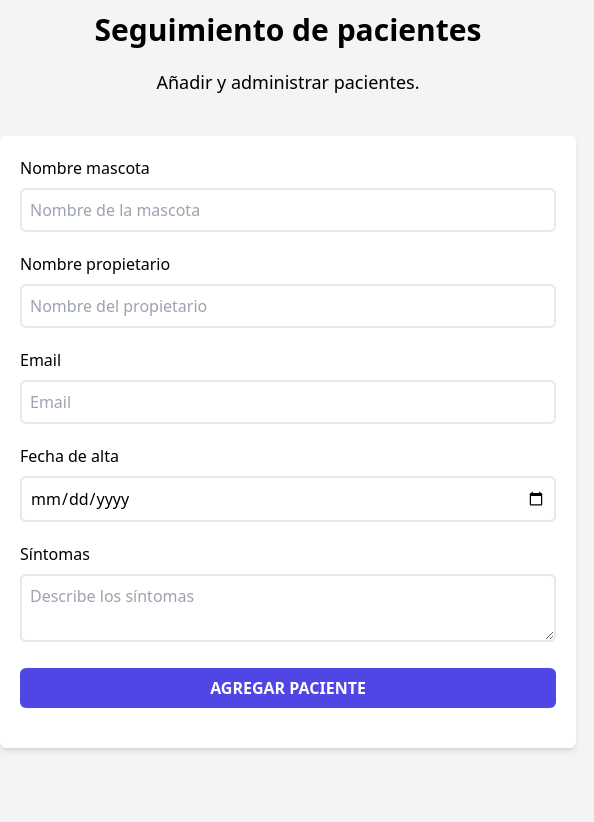
Scenario: <Formulario /> › Envío formulario nuevo registro KO
Click the button showing "Agregar paciente" at (288, 688), box [20,668,556,708]
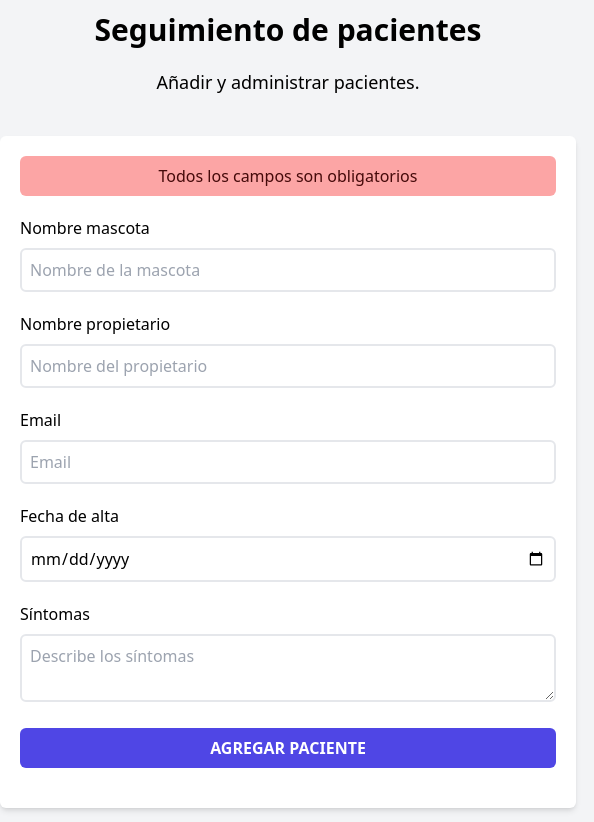
Now the text "Todos los campos son obligatorios" is shown, box [158,165,417,187]
